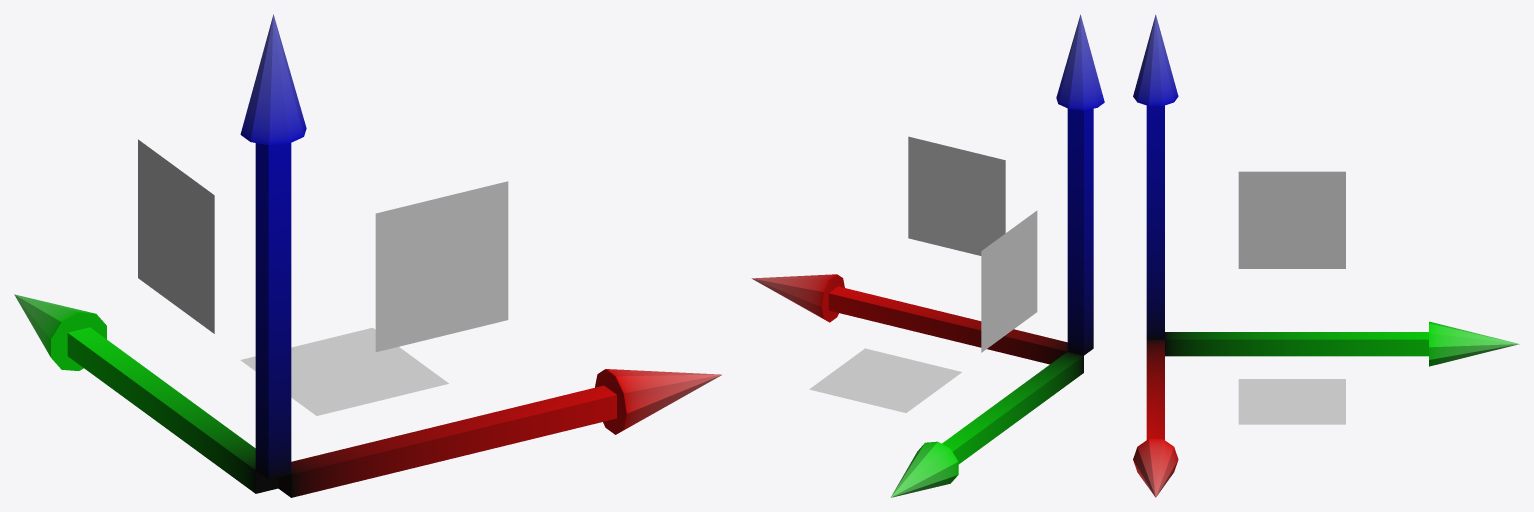
Rendered from MoveGizmo.fbx.
3 views of the same model, side by side, from view 1: azimuth 30°, elevation 25°; view 2: azimuth 150°, elevation 25°; view 3: azimuth 270°, elevation 25° (orthographic). The views are drawn at different scales.
Parts seen in each view (by area): view 1: ZXPlane, ZAxis, XAxis, YAxis, ZYPlane, XYPlane; view 2: ZXPlane, ZAxis, XAxis, YAxis, ZYPlane, XYPlane; view 3: ZYPlane, YAxis, ZAxis, XYPlane, XAxis.
Boxes of the visible parts, <box> form: ZXPlane: <box>375,181,508,352</box>; ZAxis: <box>240,14,306,479</box>; XAxis: <box>278,369,721,497</box>; YAxis: <box>14,294,278,493</box>; ZYPlane: <box>138,139,214,333</box>; XYPlane: <box>240,327,448,415</box>; ZXPlane: <box>908,136,1005,255</box>; ZAxis: <box>1056,14,1104,355</box>; XAxis: <box>751,274,1067,364</box>; YAxis: <box>890,351,1083,497</box>; ZYPlane: <box>981,210,1037,352</box>; XYPlane: <box>809,348,961,412</box>; ZYPlane: <box>1238,171,1345,268</box>; YAxis: <box>1165,321,1519,366</box>; ZAxis: <box>1133,14,1178,339</box>; XYPlane: <box>1238,379,1345,424</box>; XAxis: <box>1133,339,1178,497</box>.
Size of the model in its own units: 212 by 213 by 212.
